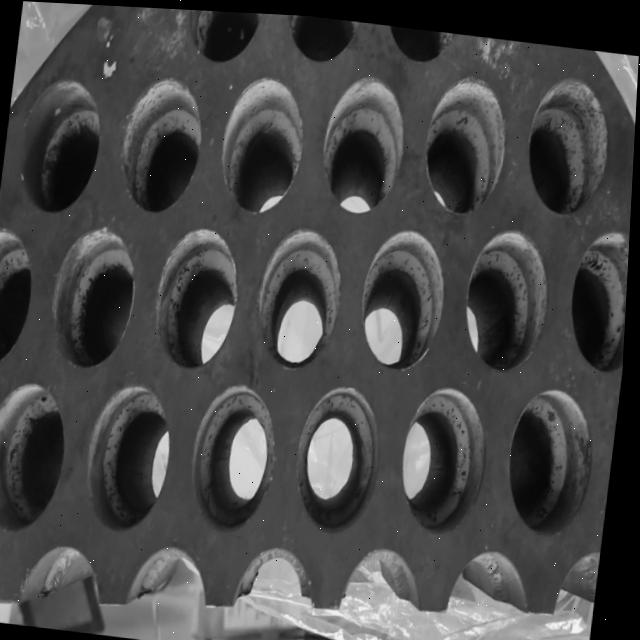Hole: (397, 376, 497, 533), (81, 377, 180, 534), (503, 377, 603, 532), (188, 377, 286, 534), (46, 219, 143, 374), (292, 377, 387, 533), (150, 219, 247, 371), (356, 219, 453, 370), (460, 219, 556, 371), (418, 65, 514, 215), (214, 68, 311, 216), (520, 65, 616, 214), (315, 67, 411, 214), (253, 220, 348, 368), (115, 70, 208, 217), (17, 73, 107, 218), (0, 375, 75, 536), (565, 218, 632, 367), (0, 224, 41, 372), (181, 7, 261, 67), (281, 12, 359, 65)
